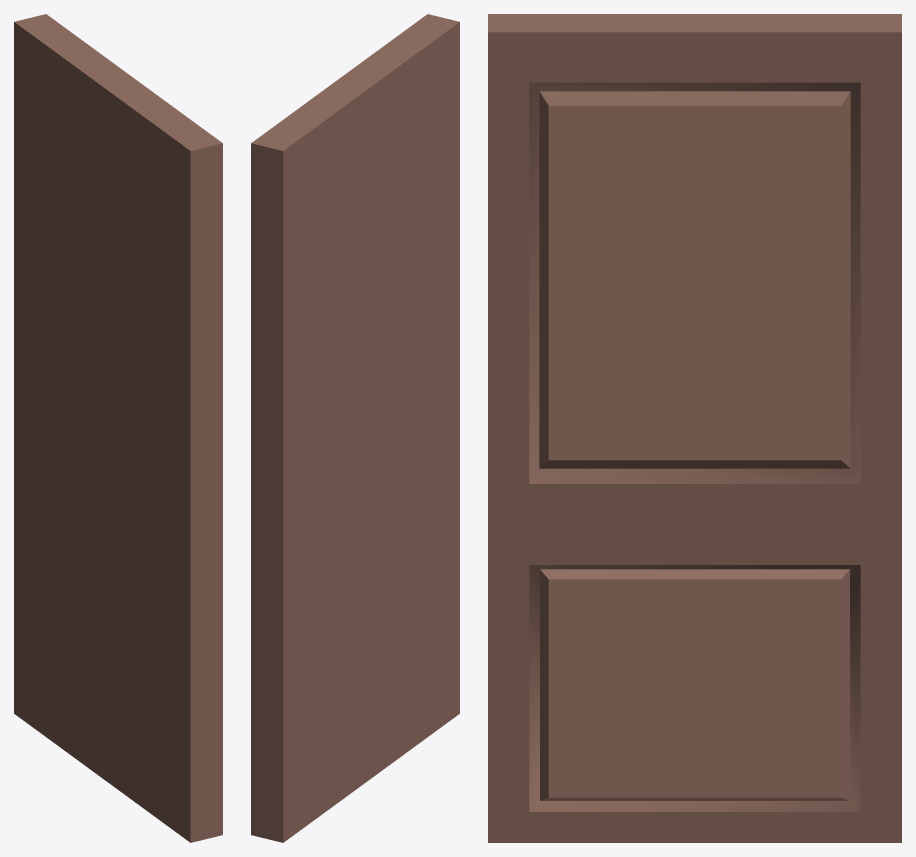
Rendered from door-mesh .fbx.
The picture shows the model from 3 angles, left to right: view 1: azimuth 30°, elevation 25°; view 2: azimuth 150°, elevation 25°; view 3: azimuth 270°, elevation 25°; orthographic projection. The views are drawn at different scales.
Parts seen in each view (by area): view 1: pCube3; view 2: pCube3; view 3: pCube3.
Boxes of the visible parts, left/top/right/bottom form: pCube3: left=14, top=14, right=222, bottom=842; pCube3: left=251, top=14, right=459, bottom=842; pCube3: left=488, top=14, right=901, bottom=842.
Bounding box in the file's own units: 0.1206 × 2.48 × 1.15.
